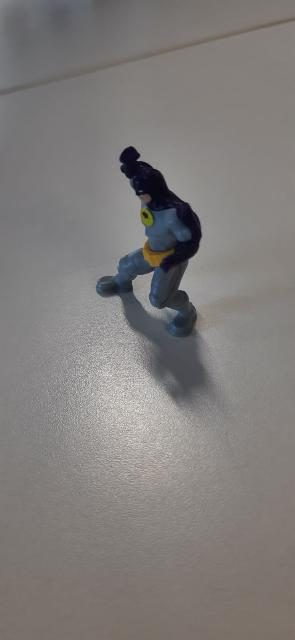Batman: (97, 131, 214, 341)
